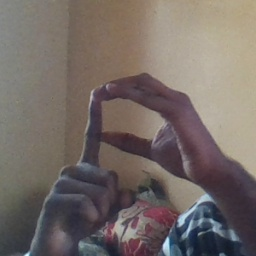P: (43, 69, 209, 226)
